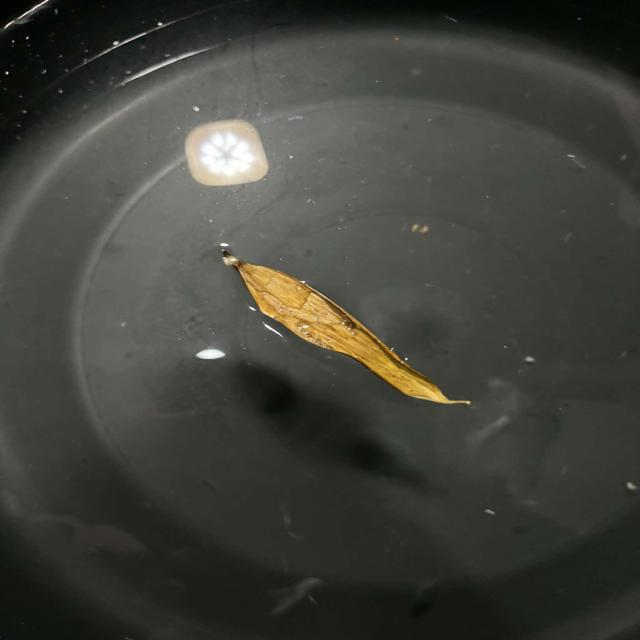Leaf: (198, 222, 487, 434)
